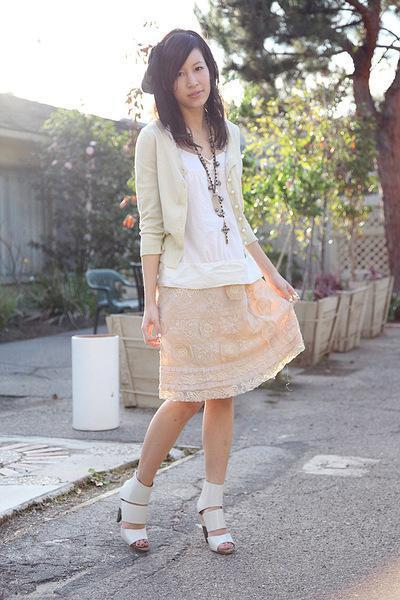shirt: (132, 112, 264, 288)
shoe: (121, 526, 147, 545)
skirt: (156, 277, 304, 415)
